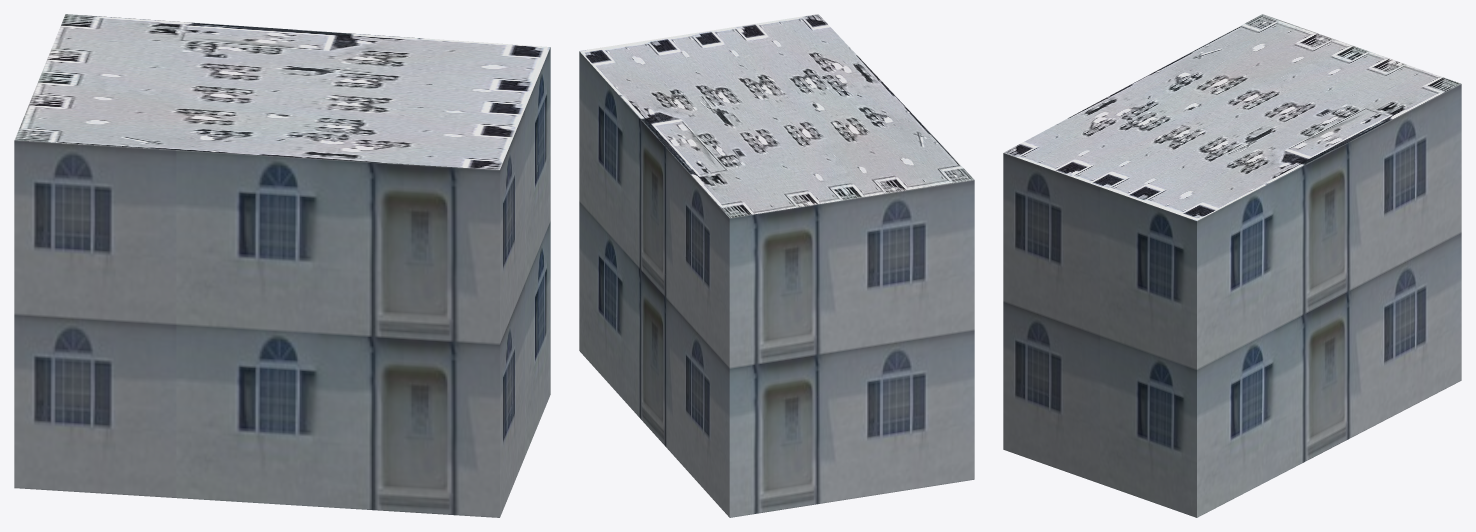
The model's file is ResTex__3963.fbx.
3 renders of one model, left to right at view 1: azimuth 30°, elevation 25°; view 2: azimuth 150°, elevation 25°; view 3: azimuth 270°, elevation 25°, orthographic. The views are drawn at different scales.
Visible parts, largest first — view 1: CityEngineMaterial_17_m, CityEngineMaterial_m; view 2: CityEngineMaterial_17_m, CityEngineMaterial_m; view 3: CityEngineMaterial_17_m, CityEngineMaterial_m.
Part boxes in pixels (x1,y1,x2,y2): CityEngineMaterial_17_m: [14, 47, 550, 517]; CityEngineMaterial_m: [14, 14, 550, 169]; CityEngineMaterial_17_m: [579, 51, 974, 517]; CityEngineMaterial_m: [579, 14, 974, 217]; CityEngineMaterial_17_m: [1003, 84, 1461, 517]; CityEngineMaterial_m: [1003, 14, 1461, 220].
Bounding box in the file's own units: 8.98 × 6 × 8.39.
2 materials, 2 textured.
